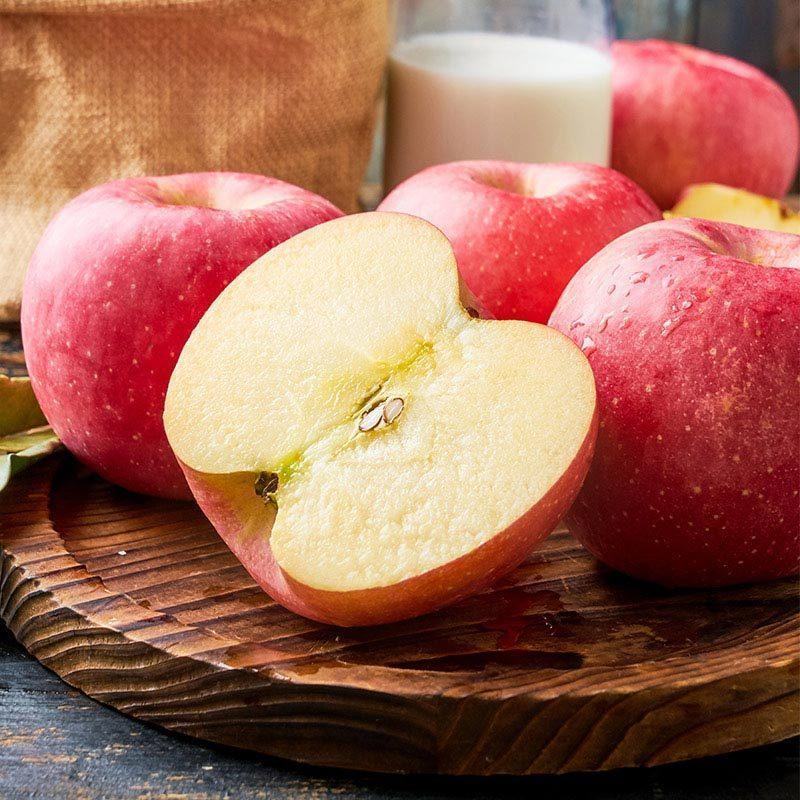apple: (30, 178, 373, 527), (557, 230, 799, 608), (375, 156, 663, 331), (605, 36, 796, 214)
